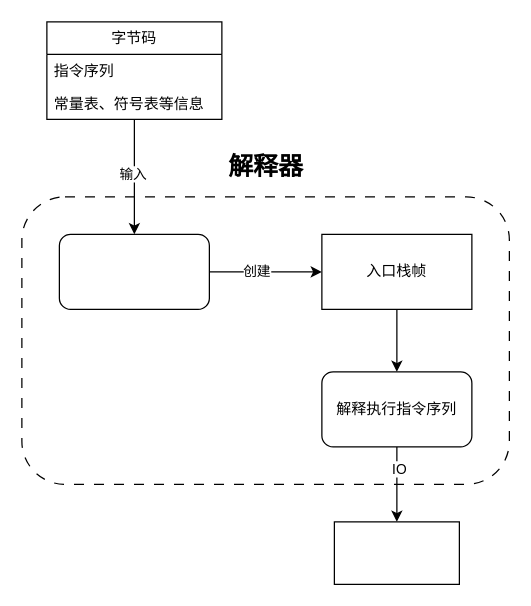
Some shapes in this 531 by 606 pixel diagram are drawn without their labels. Each missing label, with the centre of its shape:
字节码加载: pixel 133 271
指令运行结果: pixel 396 552
